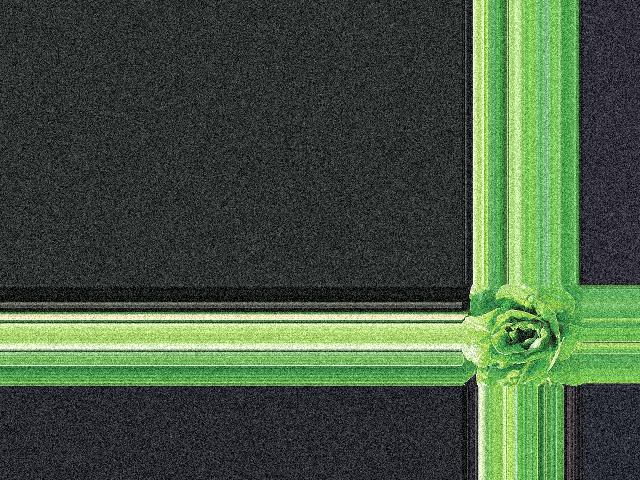lettuce: (467, 287, 581, 387)
